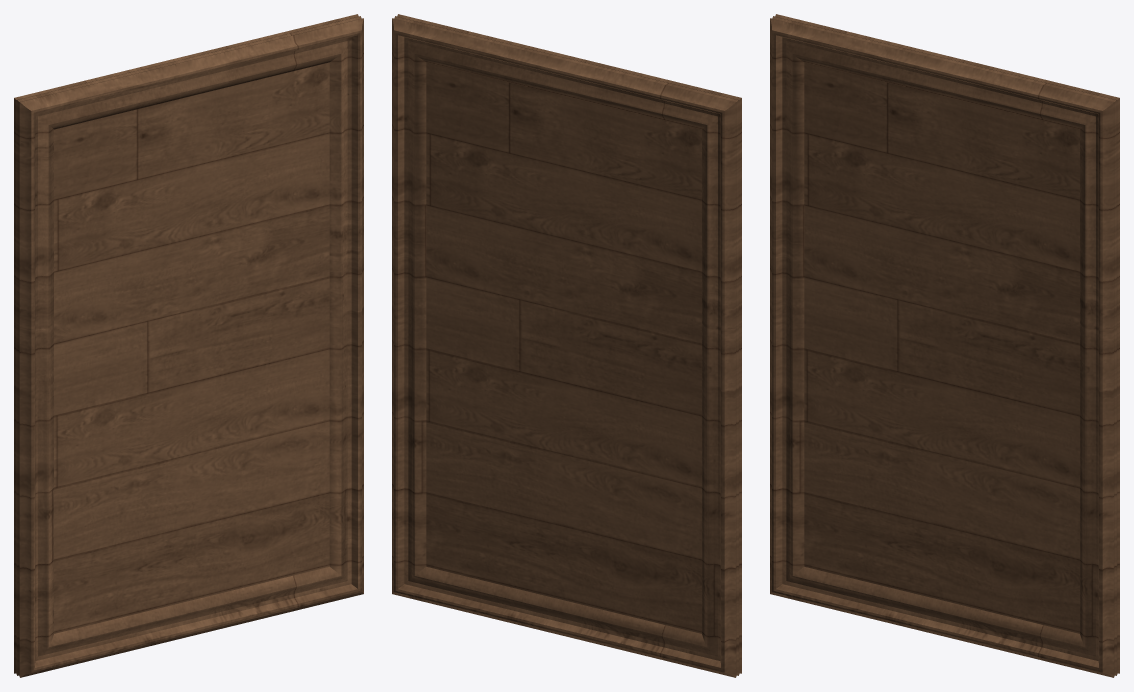
Rendered from marco_doble_01.fbx.
3 renders of one model, left to right at view 1: azimuth 30°, elevation 25°; view 2: azimuth 150°, elevation 25°; view 3: azimuth 330°, elevation 25°, orthographic.
Visible parts, largest first — view 1: marco_doble; view 2: marco_doble; view 3: marco_doble.
Part boxes in pixels (x1,y1,x2,y2): marco_doble: [14, 14, 363, 677]; marco_doble: [392, 14, 741, 677]; marco_doble: [770, 14, 1119, 677].
Bounding box in the file's own units: 109 × 174 × 8.72.
